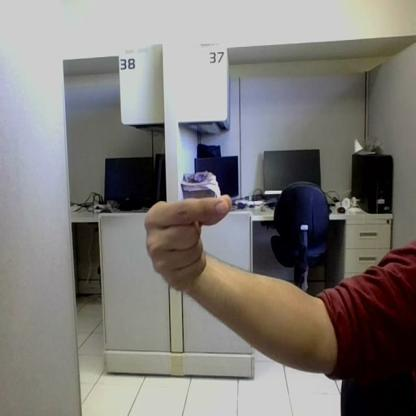G: (146, 199, 231, 290)
